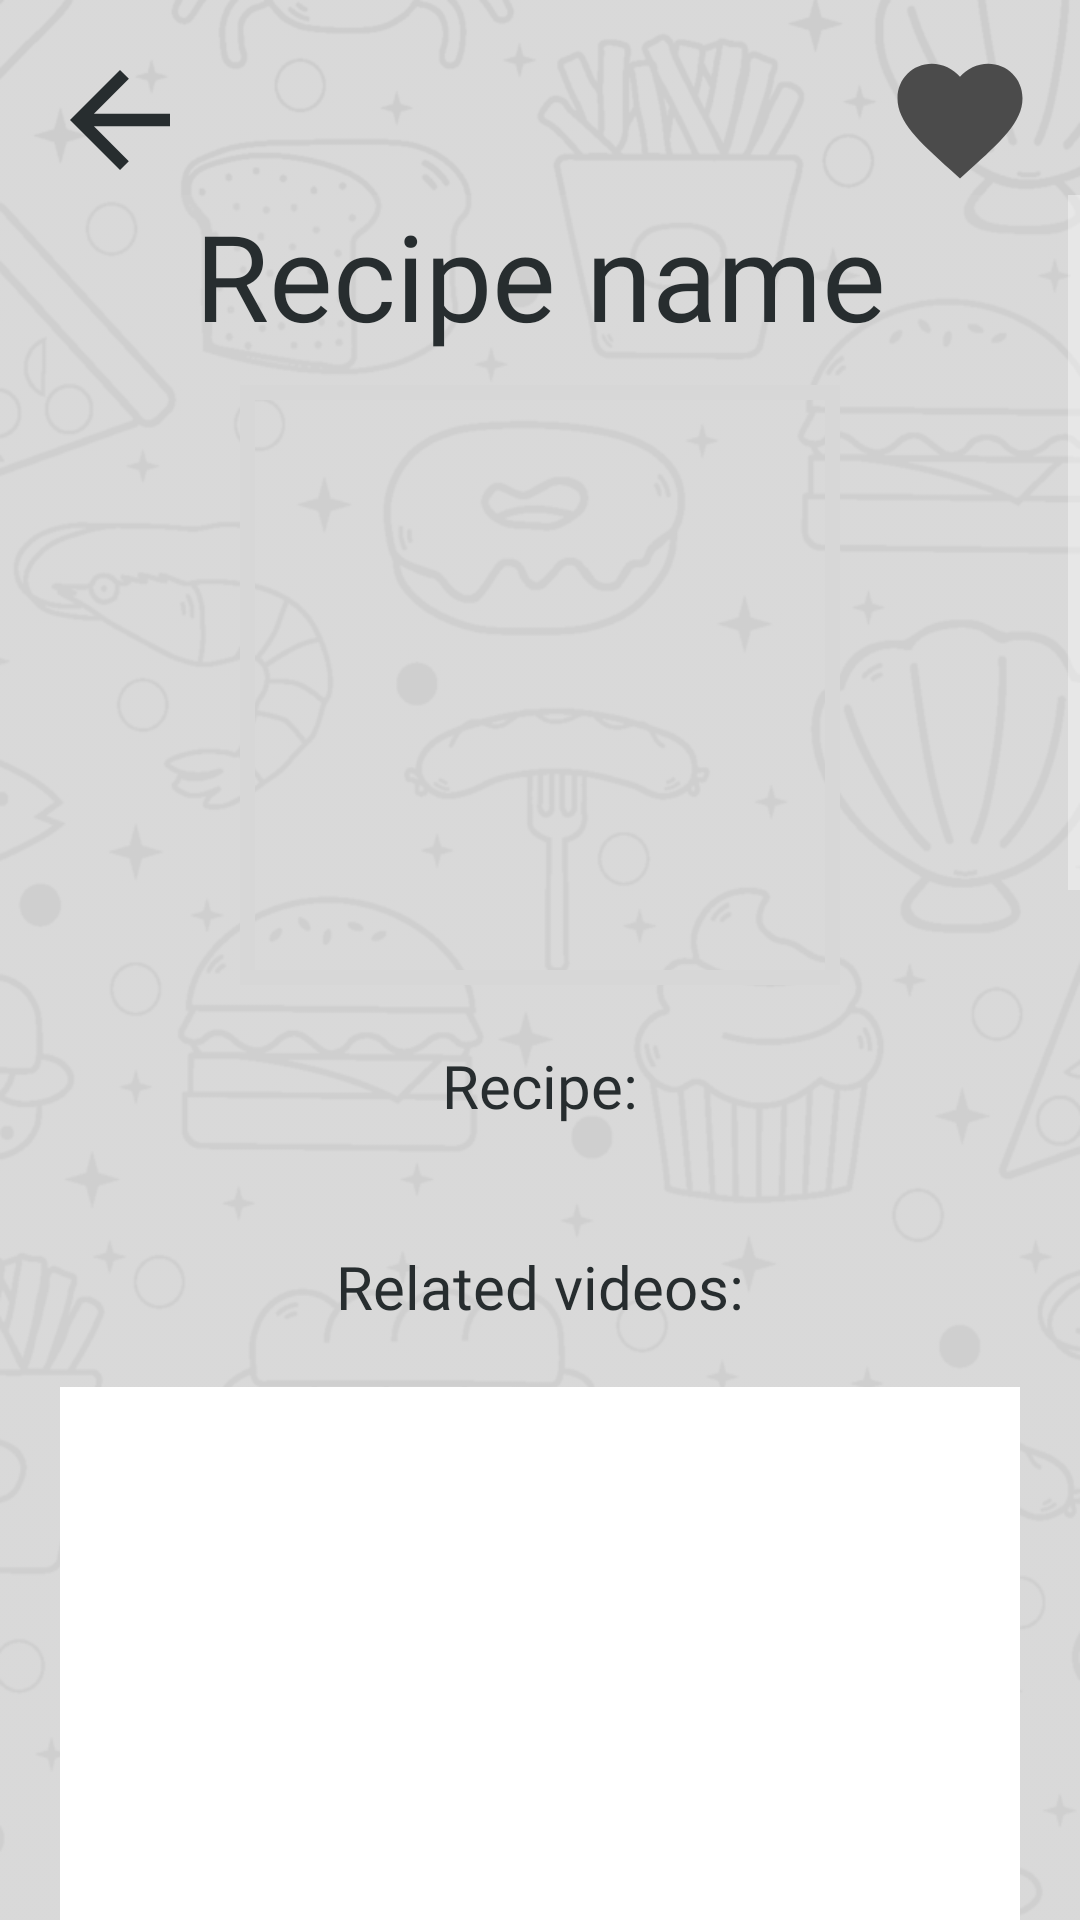

Where to tap for icons on this 1080x1920 app screen, as point (x, y):
arrow back: point (120, 120)
favorite: point (960, 120)
